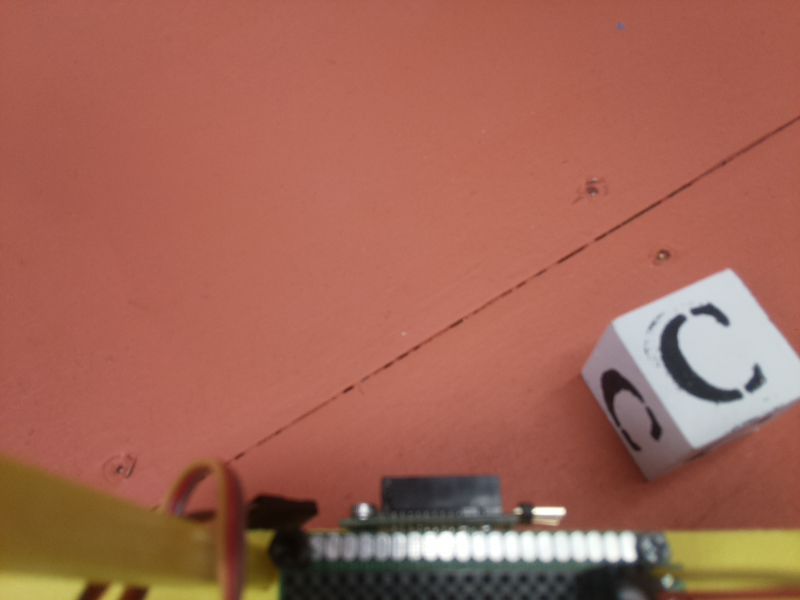blockC: (578, 265, 800, 480)
